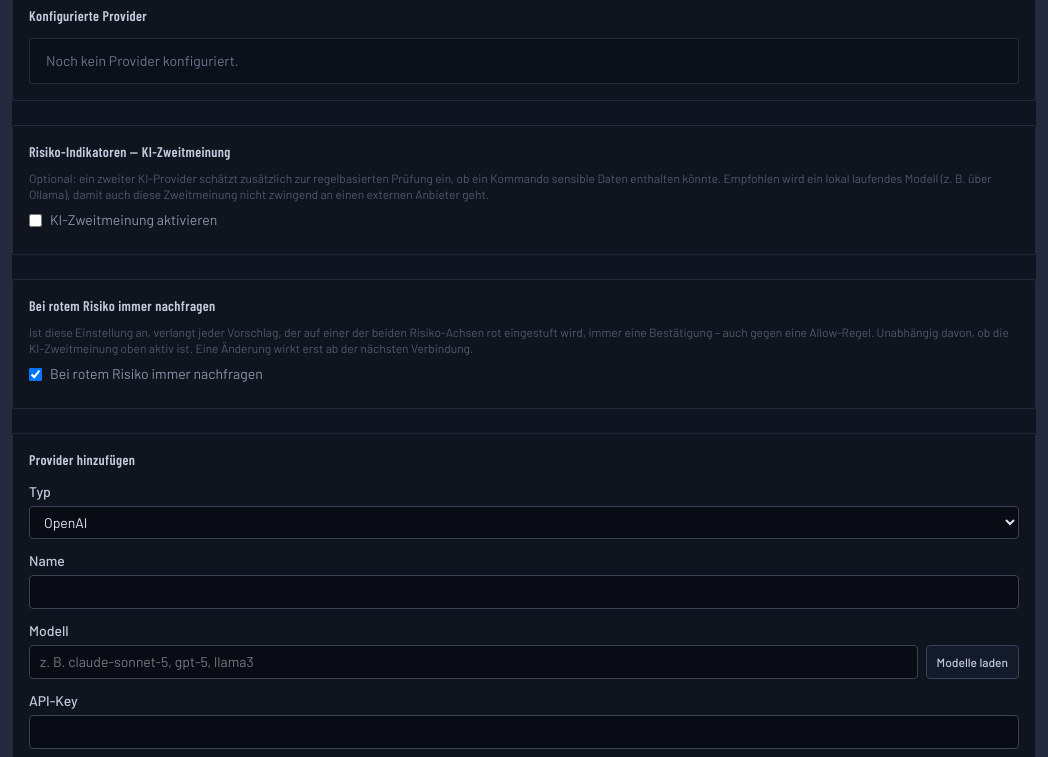
Scenario: AiProviderSettings credentials test button (Spec 0050, Teil 3) › shows an unreachable result including the message
In the password field labelled "API-Key": (524, 732) [29, 715, 1019, 749], type "sk-abc"
(page scrolled)
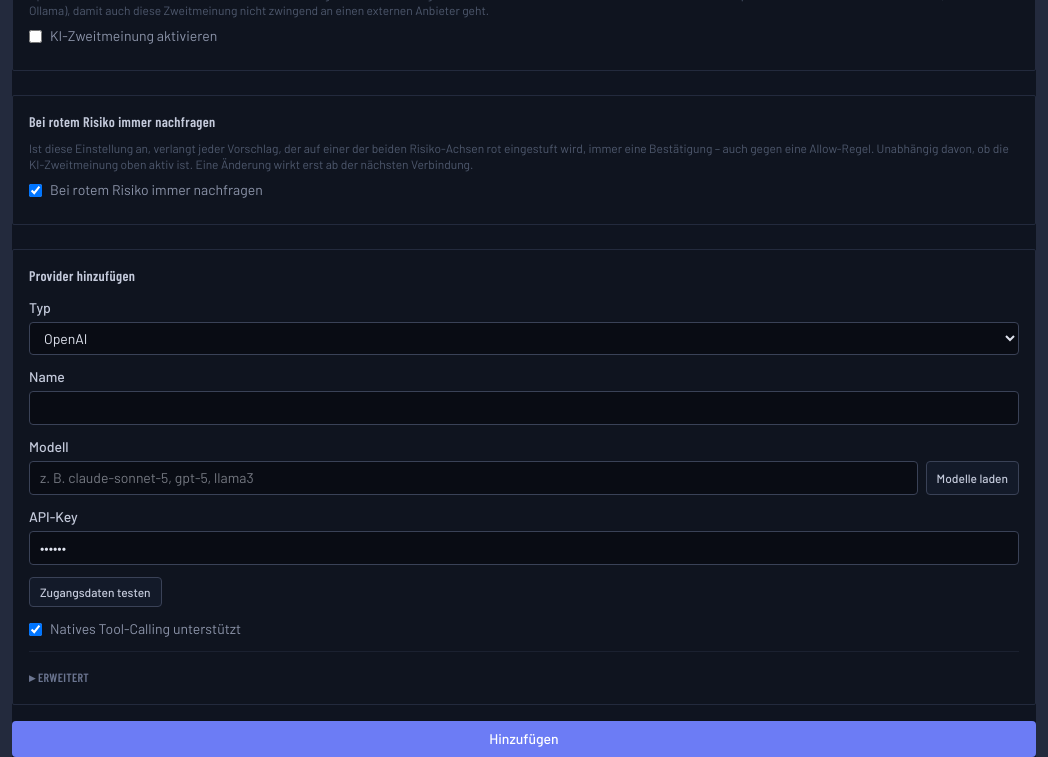
Click the button "Zugangsdaten testen": (95, 592) [29, 577, 162, 607]
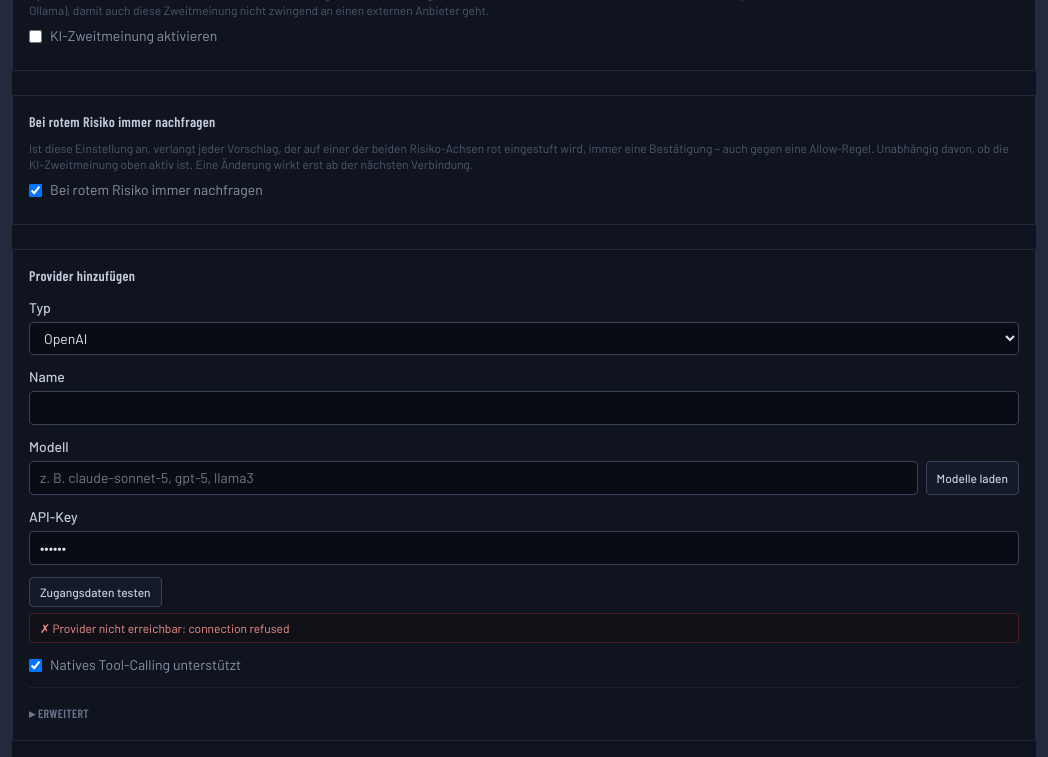
Now the text "✗ Provider nicht erreichbar: connection refused" is shown, box [29, 613, 1019, 643]
